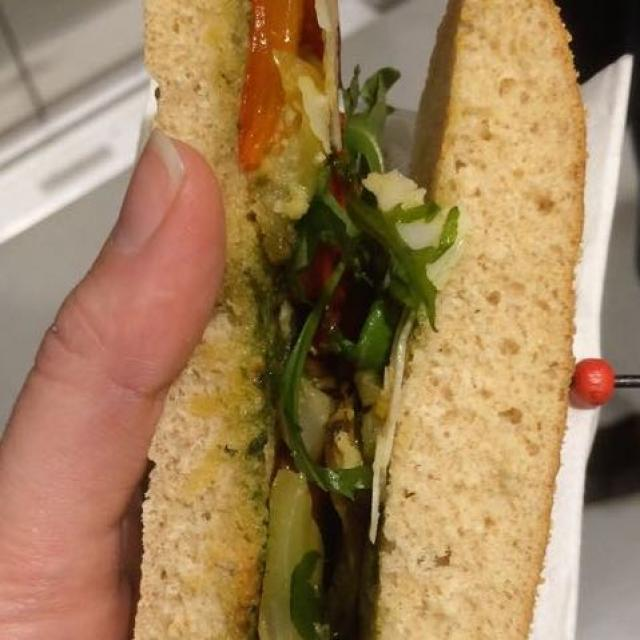cheese: (361, 168, 466, 282)
salad: (265, 67, 425, 629)
sauce: (236, 197, 298, 486)
tomato: (244, 5, 311, 171)
